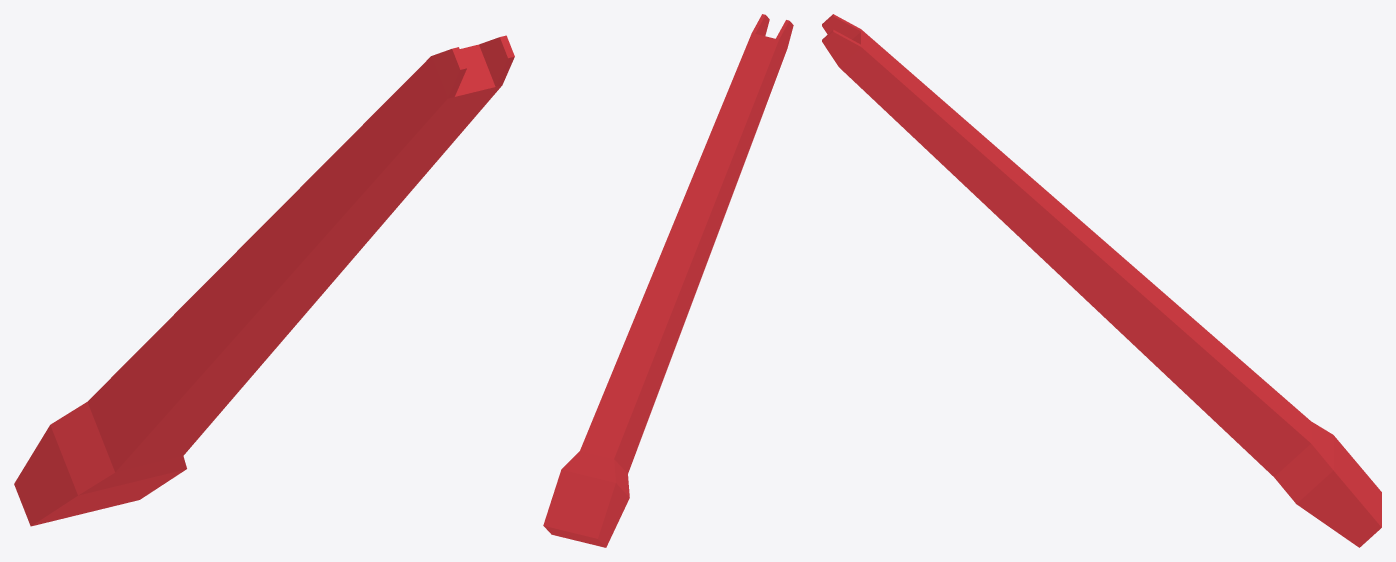
File: crane-docks-arm-main.glb
The picture shows the model from 3 angles, left to right: view 1: azimuth 30°, elevation 25°; view 2: azimuth 150°, elevation 25°; view 3: azimuth 270°, elevation 25°; orthographic projection. The views are drawn at different scales.
Parts seen in each view (by area): view 1: crane-docks-arm-main; view 2: crane-docks-arm-main; view 3: crane-docks-arm-main.
Part boxes in pixels (x1,y1,x2,y2): crane-docks-arm-main: (14,35,514,526); crane-docks-arm-main: (543,14,793,547); crane-docks-arm-main: (822,14,1381,547).
Size of the model in its own units: 1.6 by 10.64 by 10.64.
1 material, 1 textured.
